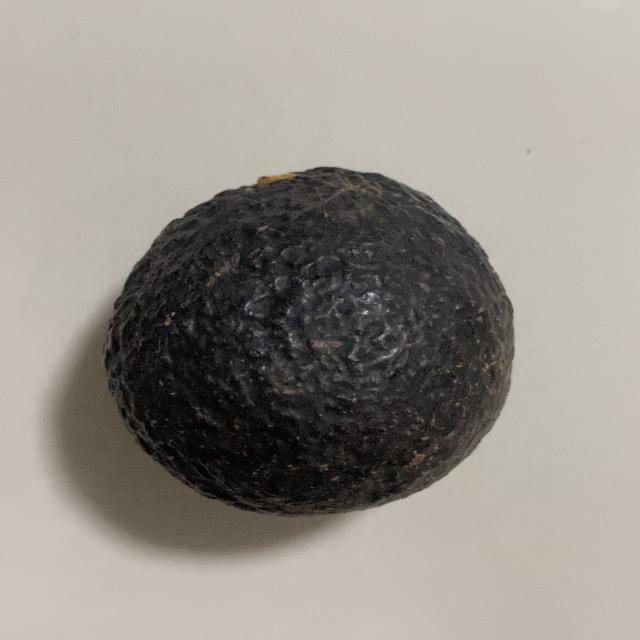Level2: (98, 159, 522, 519)
